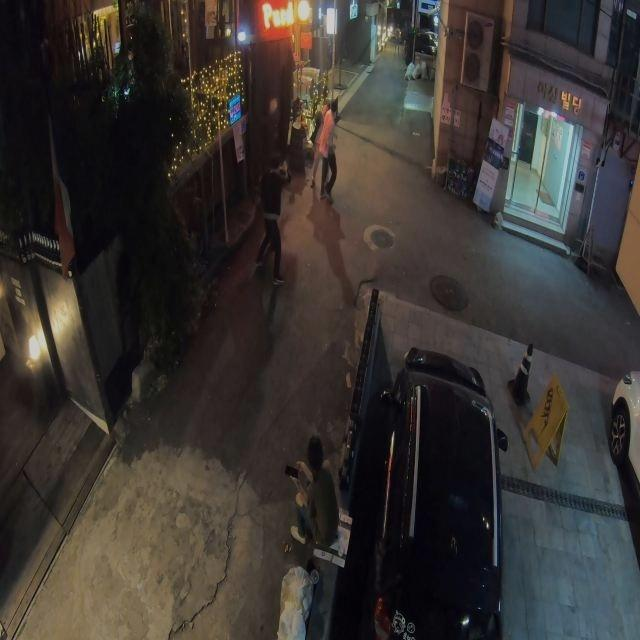fight: (313, 101, 340, 202)
non-fight: (285, 436, 338, 547), (254, 150, 292, 281)
